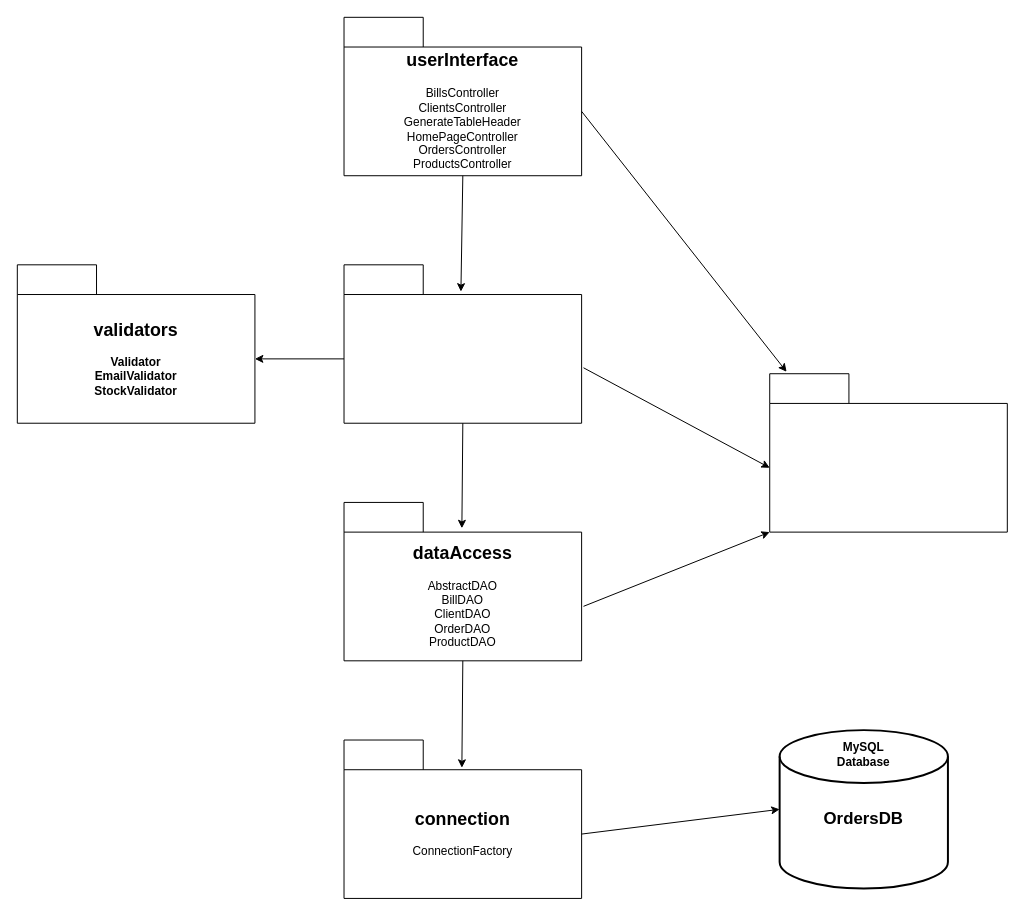
The diagram is 1025 pixels wide and 916 high, and some of its shapes have lost their labels. Each missing label, with the centre of its shape:
"bussinessLogic validators AbstractBLL BillBLL ClientBLL OrderBLL ProductBLL" belongs at point 462,343.
"Model Bill Client Orders Product" belongs at point 888,452.
